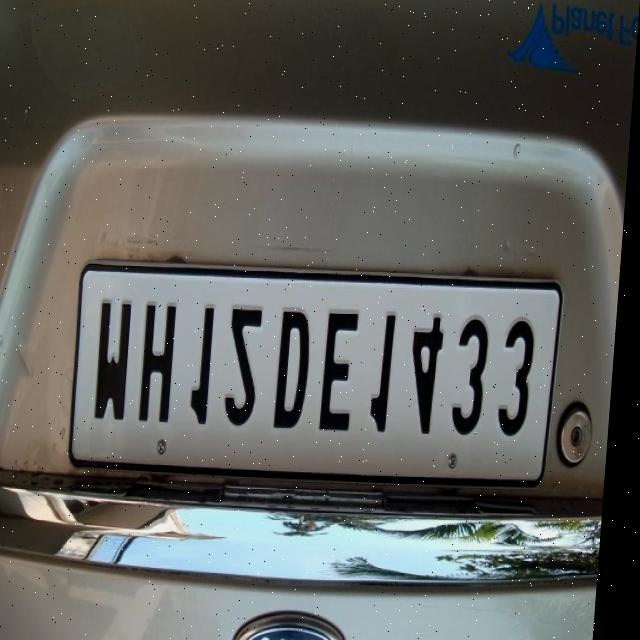plate: (70, 262, 570, 489)
